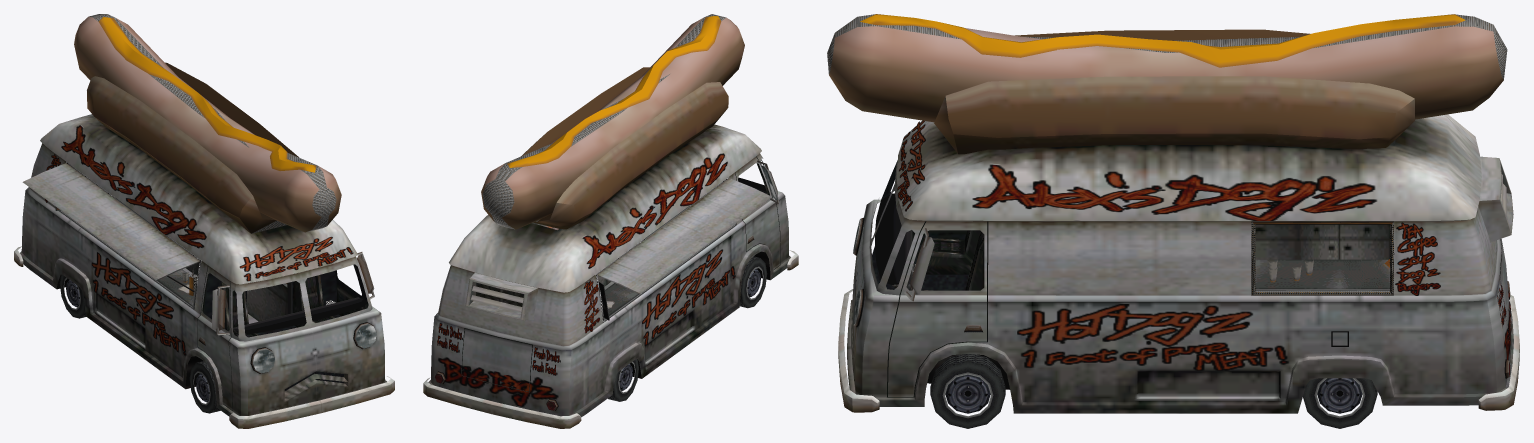
The model's file is hotdog_truck.glb.
The picture shows the model from 3 angles, left to right: view 1: azimuth 30°, elevation 25°; view 2: azimuth 150°, elevation 25°; view 3: azimuth 270°, elevation 25°; orthographic projection. The views are drawn at different scales.
Visible parts, largest first — view 1: FrontSide_1, FrontSide_6, FrontSide_7, FrontSide_4, FrontSide_3, FrontSide_5, FrontSide_2; view 2: FrontSide_1, FrontSide_7, FrontSide_6, FrontSide_4, FrontSide_3, FrontSide_2; view 3: FrontSide_1, FrontSide_6, FrontSide_7, FrontSide_4, FrontSide_3, FrontSide_2.
Part boxes in pixels (x1,y1,x2,y2): FrontSide_1: (14, 14, 394, 428); FrontSide_6: (56, 17, 368, 410); FrontSide_7: (45, 125, 353, 355); FrontSide_4: (55, 162, 374, 392); FrontSide_3: (59, 274, 220, 413); FrontSide_5: (253, 324, 376, 373); FrontSide_2: (66, 279, 209, 402); FrontSide_1: (423, 14, 798, 428); FrontSide_7: (437, 153, 735, 407); FrontSide_6: (461, 16, 780, 391); FrontSide_4: (435, 159, 778, 410); FrontSide_3: (608, 256, 767, 401); FrontSide_2: (619, 268, 760, 390); FrontSide_1: (827, 14, 1519, 413); FrontSide_6: (860, 14, 1465, 397); FrontSide_7: (897, 120, 1511, 370); FrontSide_4: (853, 160, 1510, 402); FrontSide_3: (930, 354, 1377, 428); FrontSide_2: (945, 331, 1362, 413).
Size of what is drawn, in the model's own units: 3.54 by 4.57 by 7.92.
9 materials, 9 textured.
